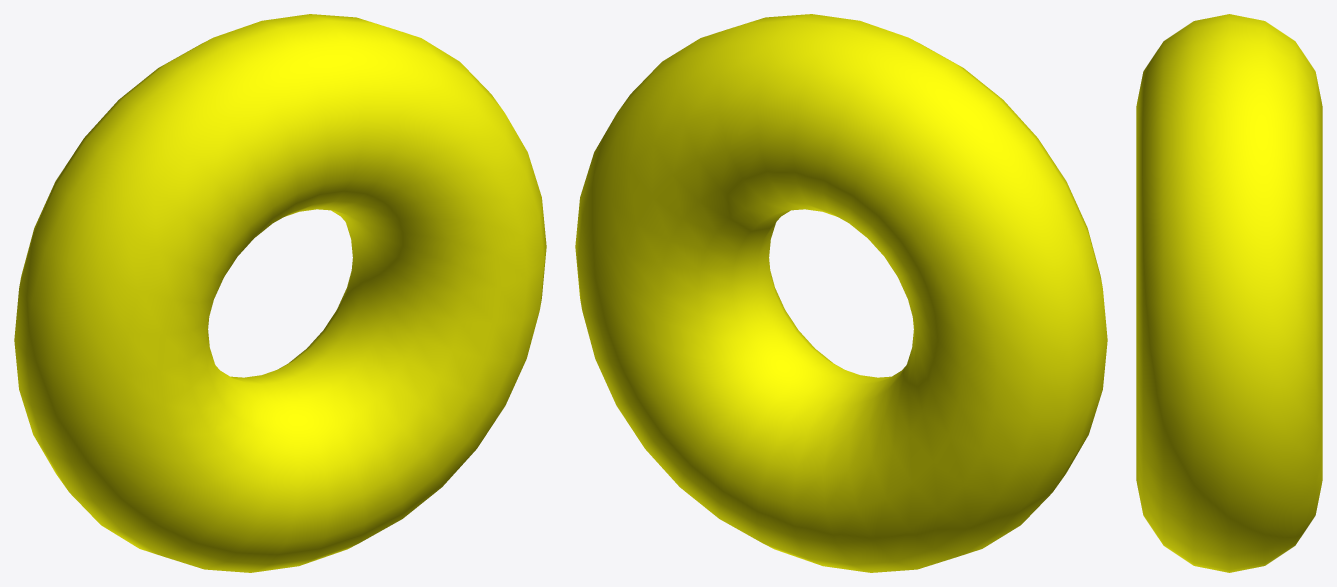
The picture shows the model from 3 angles, left to right: view 1: azimuth 30°, elevation 25°; view 2: azimuth 150°, elevation 25°; view 3: azimuth 270°, elevation 25°; orthographic projection. The views are drawn at different scales.
Bounding box in the file's own units: 1.2 × 1.2 × 0.4.
